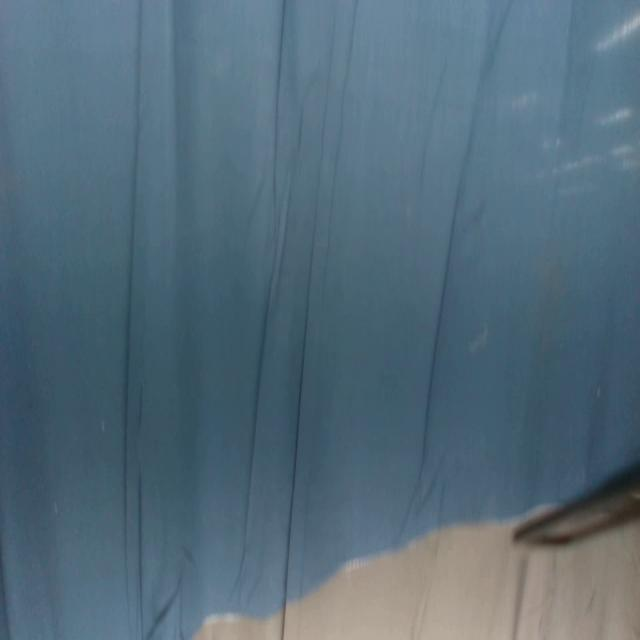crease: (283, 18, 336, 640), (233, 274, 276, 592), (419, 183, 461, 485), (122, 0, 142, 608), (270, 0, 289, 236), (134, 470, 145, 640)
